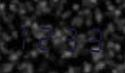one: (18, 18, 39, 52)
three: (84, 20, 105, 54), (62, 20, 83, 53)
two: (40, 19, 61, 52)
